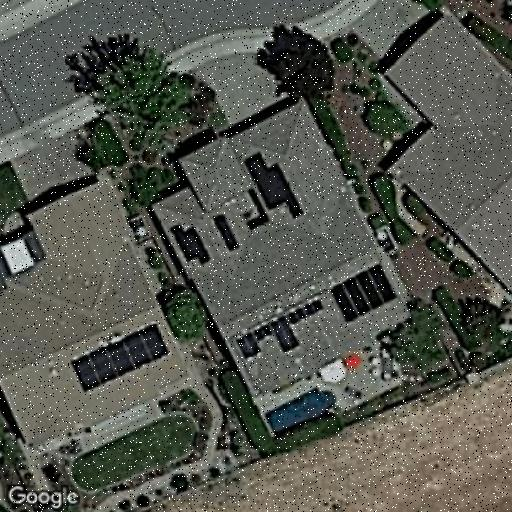solar-panel: (68, 322, 172, 394), (234, 297, 328, 359), (328, 259, 398, 323), (244, 150, 304, 220), (168, 223, 210, 266), (212, 211, 240, 253)
